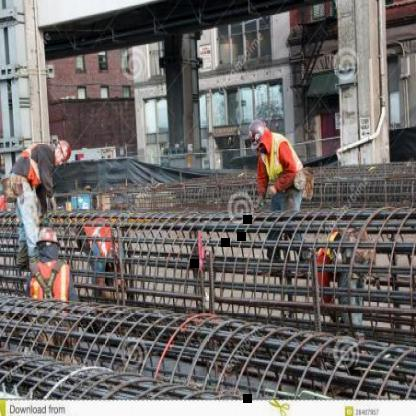helmet: (50, 132, 82, 166), (244, 115, 270, 154), (33, 219, 59, 248)
